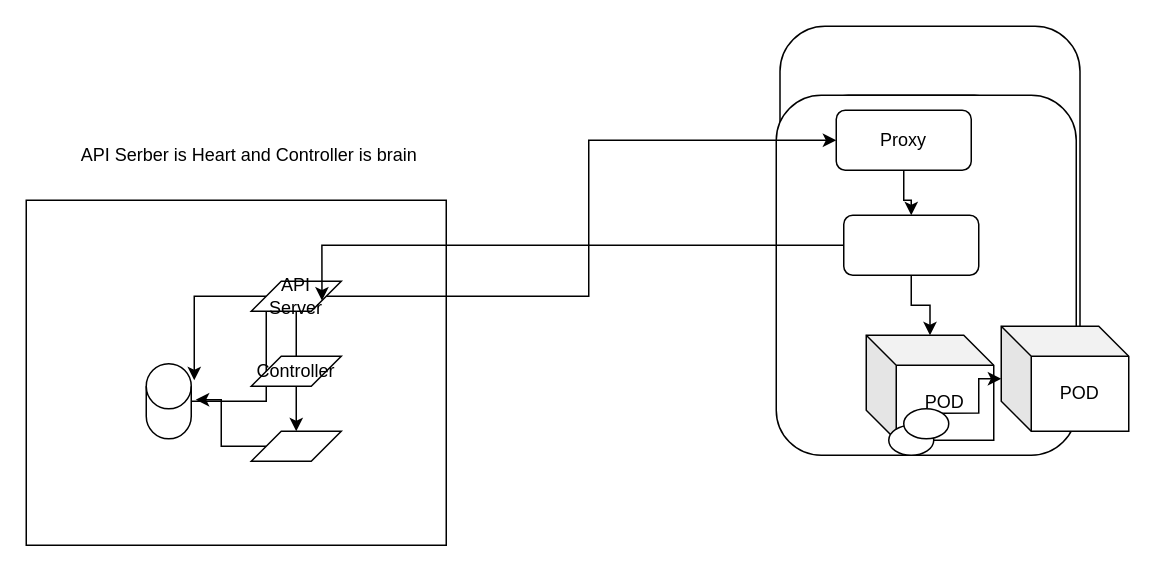
Some shapes in this 1155 by 572 pixel diagram are drawn without their labels. Here are the shapes that lost their labels. From the top down, the centre of each, then its label:
the point at 910,244: Kubectl
the point at 295,445: Scheduler
